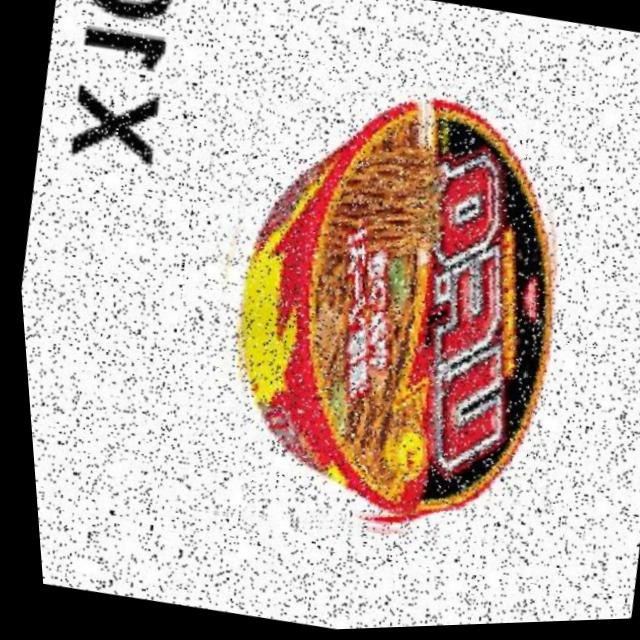Miscellaneous: (141, 41, 605, 577)
